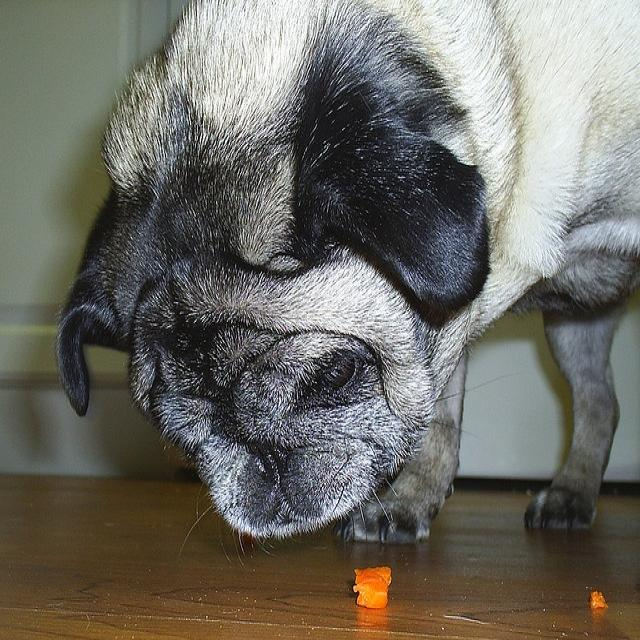dog: (51, 0, 639, 547)
